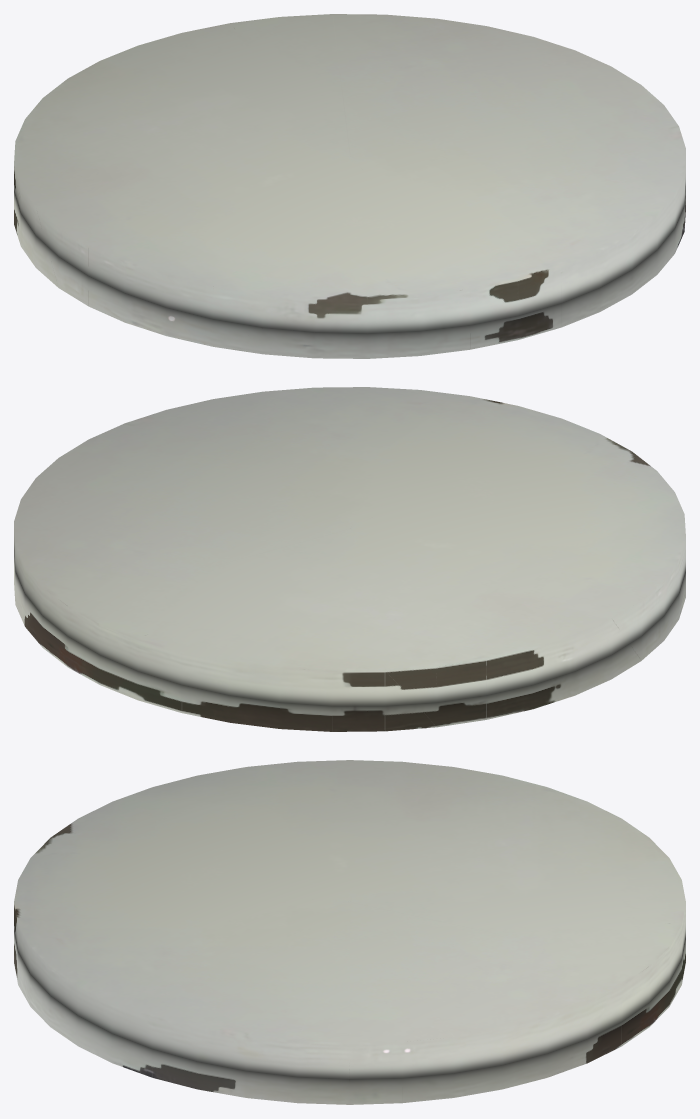
The model's file is SM_Main_Base.glb.
The picture shows the model from 3 angles, top to bottom: view 1: azimuth 30°, elevation 25°; view 2: azimuth 150°, elevation 25°; view 3: azimuth 270°, elevation 25°; orthographic projection.
Size of the model in its own units: 2 by 0.2 by 2.
1 material, 1 textured.
